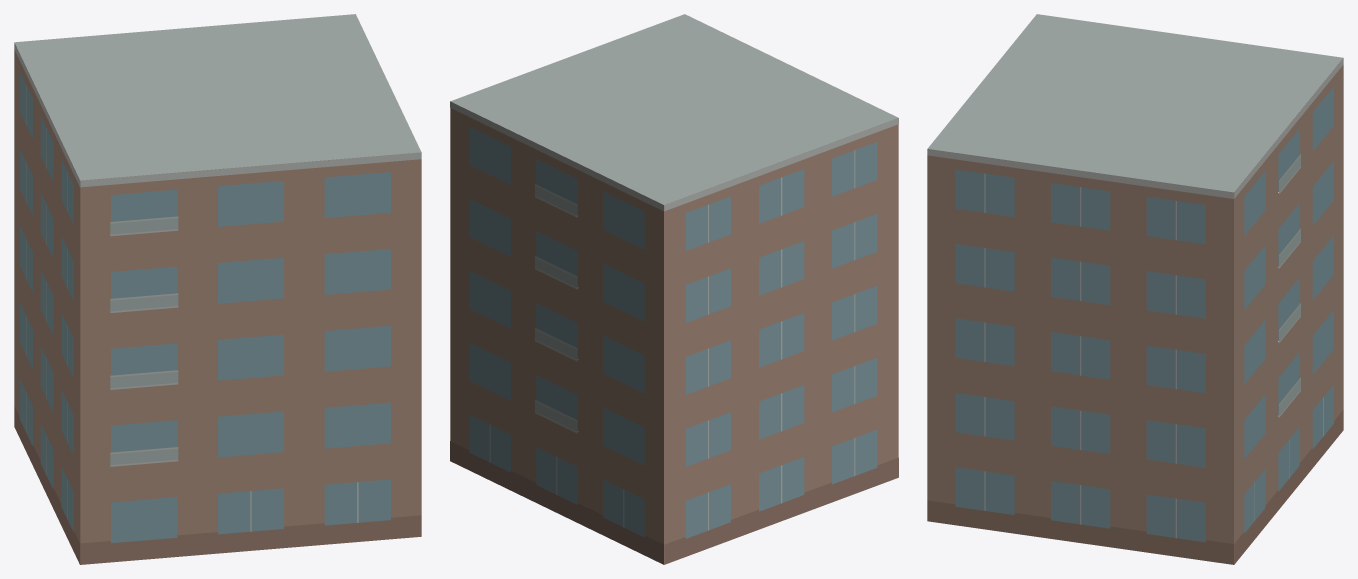
Rendered from survey-upis-32529306.glb.
The picture shows the model from 3 angles, left to right: view 1: azimuth 30°, elevation 25°; view 2: azimuth 150°, elevation 25°; view 3: azimuth 270°, elevation 25°; orthographic projection. The views are drawn at different scales.
Parts seen in each view (by area): view 1: survey-upis-32529306.tmp; view 2: survey-upis-32529306.tmp; view 3: survey-upis-32529306.tmp.
Part boxes in pixels (x1,y1,x2,y2): survey-upis-32529306.tmp: (14,14,421,564); survey-upis-32529306.tmp: (450,14,898,564); survey-upis-32529306.tmp: (927,14,1343,564).
Bounding box in the file's own units: 14.19 × 13.8 × 13.99.
